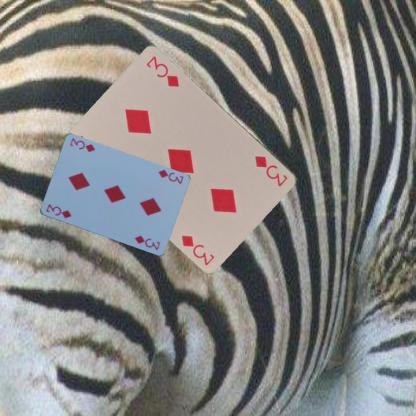3d: (252, 152, 290, 188), (43, 201, 73, 220), (156, 167, 184, 185)
